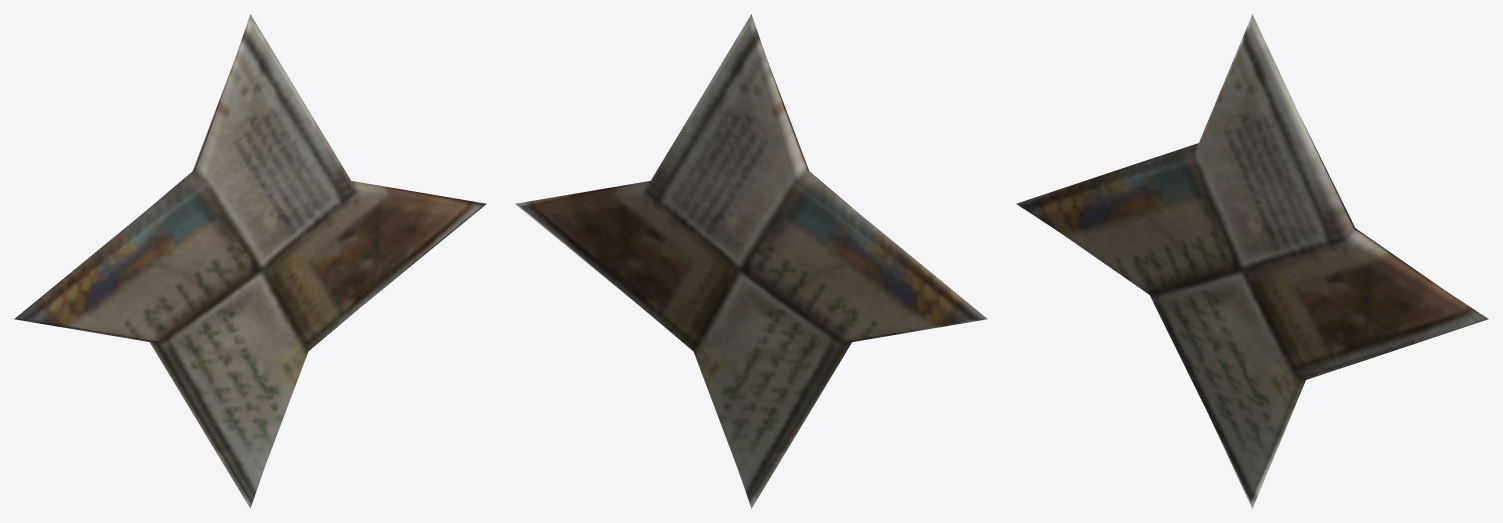
Rendered from paperShuriken.glb.
3 renders of one model, left to right at view 1: azimuth 30°, elevation 25°; view 2: azimuth 150°, elevation 25°; view 3: azimuth 330°, elevation 25°, orthographic.
Parts seen in each view (by area): view 1: paperShuriken; view 2: paperShuriken; view 3: paperShuriken.
Part boxes in pixels (x1,y1,x2,y2): paperShuriken: (14,14,486,508); paperShuriken: (515,14,987,508); paperShuriken: (1016,14,1488,508).
Size of the model in its own units: 0.3961 by 0.3961 by 0.0317.
Materials: 1 (1 with a texture image).
